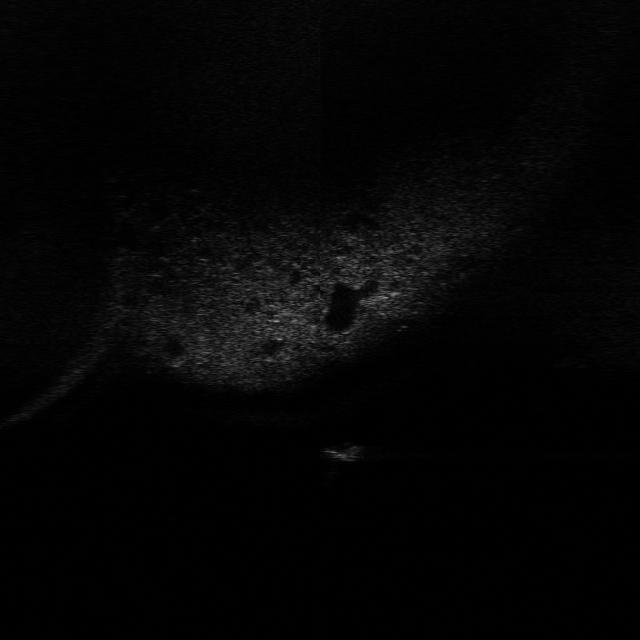cube: (317, 437, 372, 467)
